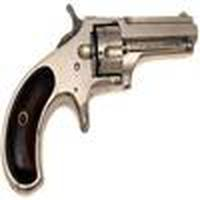gun: (6, 20, 200, 182)
